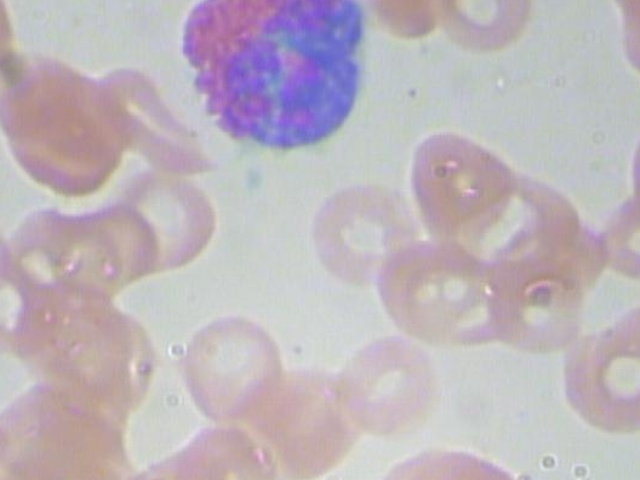RBC: (0, 44, 134, 195), (222, 349, 371, 480), (389, 112, 521, 253), (85, 63, 227, 185), (169, 306, 296, 423), (366, 228, 493, 345), (321, 327, 448, 443), (97, 167, 225, 281), (309, 179, 422, 288), (562, 296, 640, 437), (485, 253, 586, 354), (425, 0, 550, 57), (80, 199, 159, 282), (0, 236, 47, 356), (394, 441, 537, 480), (592, 188, 640, 288), (362, 0, 461, 48), (607, 89, 640, 226), (0, 183, 24, 303), (0, 0, 24, 98), (0, 388, 24, 480)
WBC: (171, 0, 385, 161)
